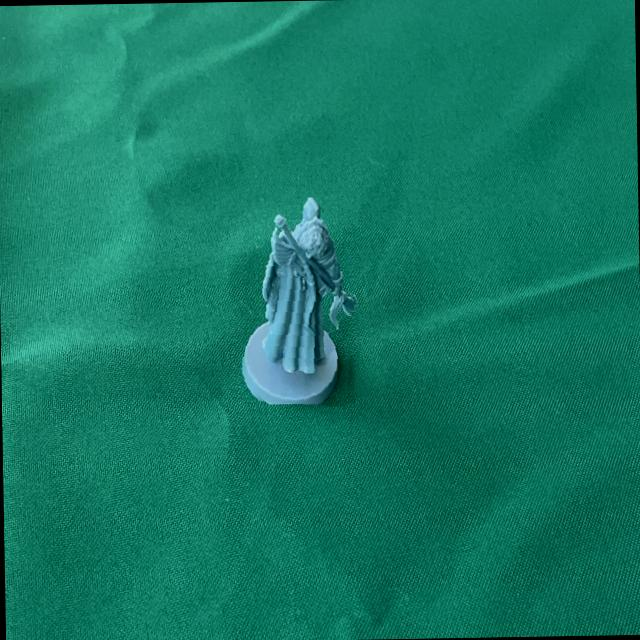isis_follower: (239, 182, 360, 406)
